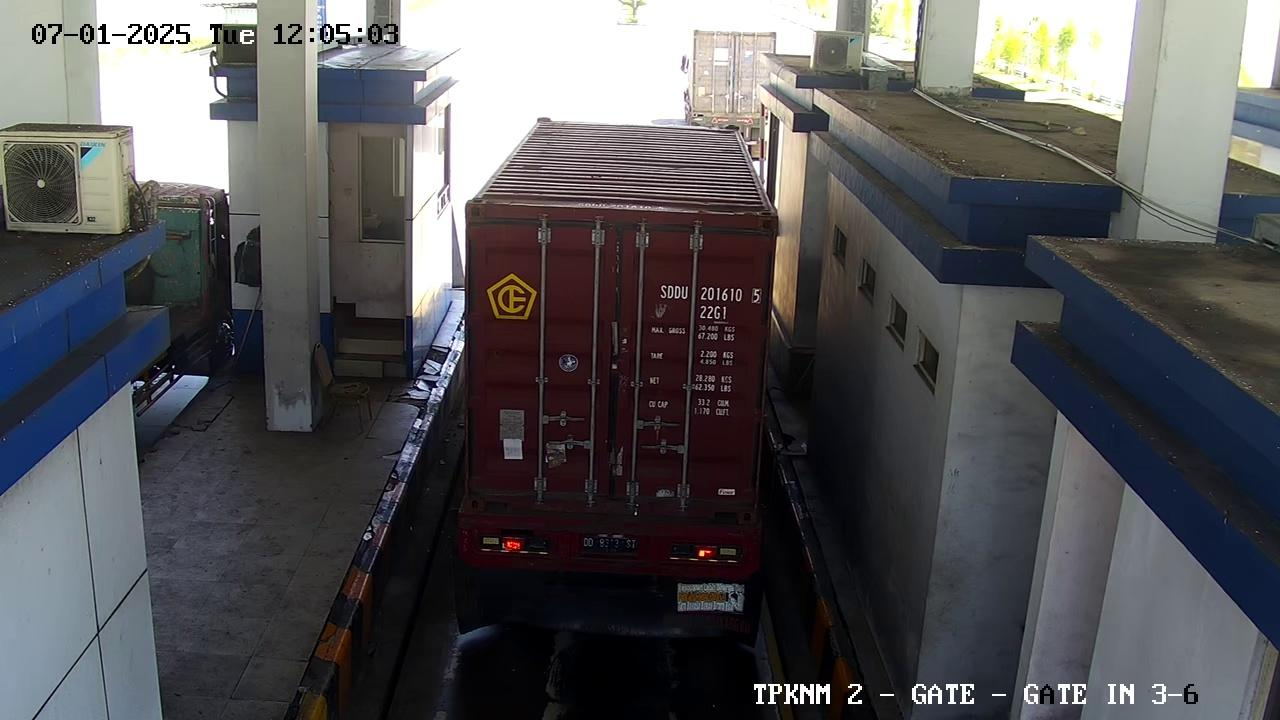Container_ID: (651, 271, 772, 303)
plate_number: (574, 526, 641, 564)
